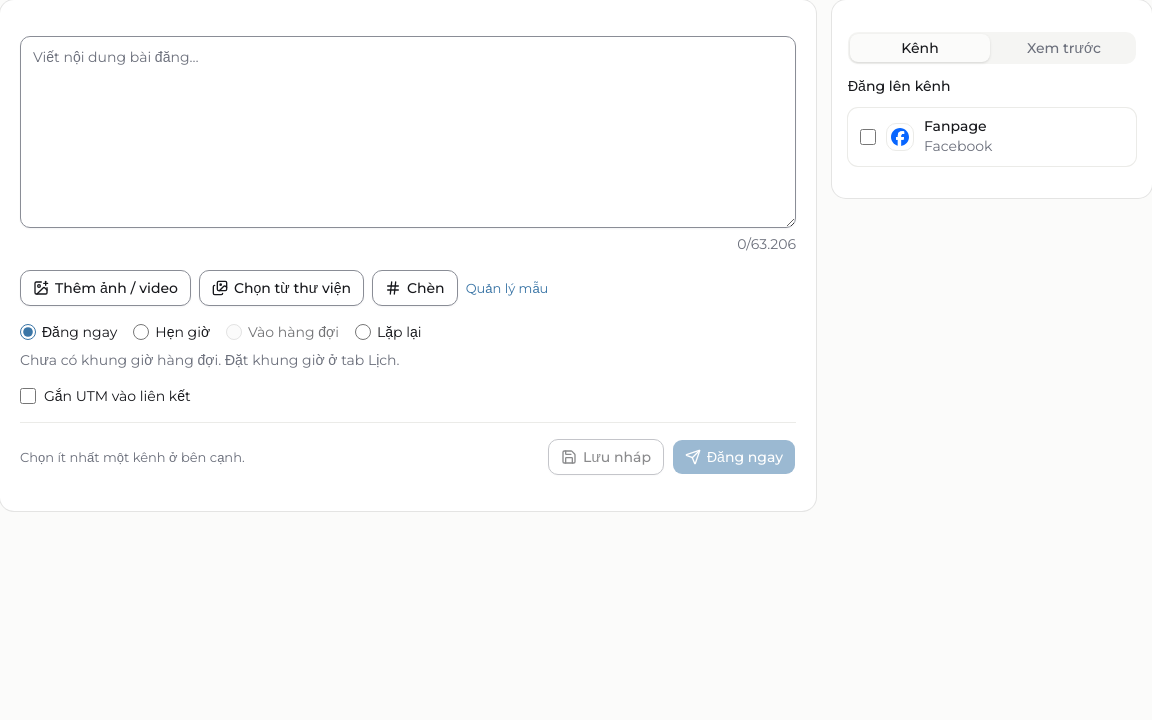
Test: ô soạn: Lặp lại › chọn Lặp lại ⇒ hiện các ô và dòng '3 lần đăng tới'
The image size is (1152, 720).
Click the radio button labelled "Lặp lại".
click(363, 332)  # box [355,324,371,340]
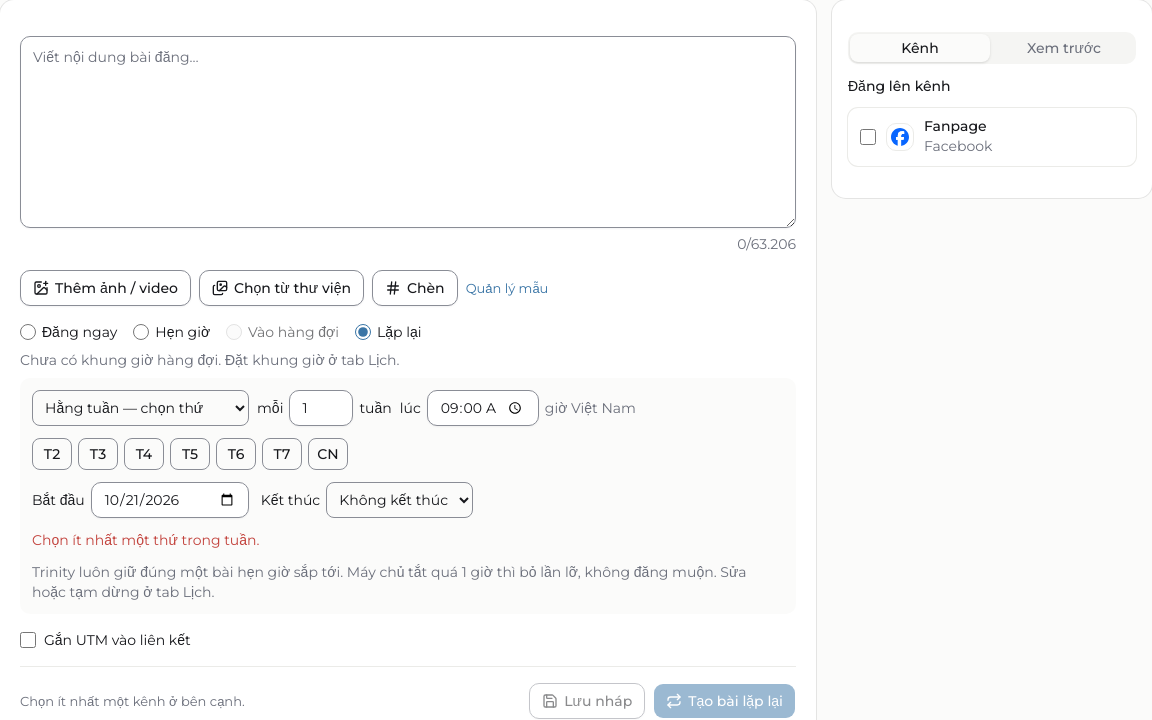
Expected: the element with test id "recurrence-fields" is shown, [20,378,796,614]
Select "Hằng ngày" in the dropdown named "Tần suất" at [140, 408], box [32,390,249,426]
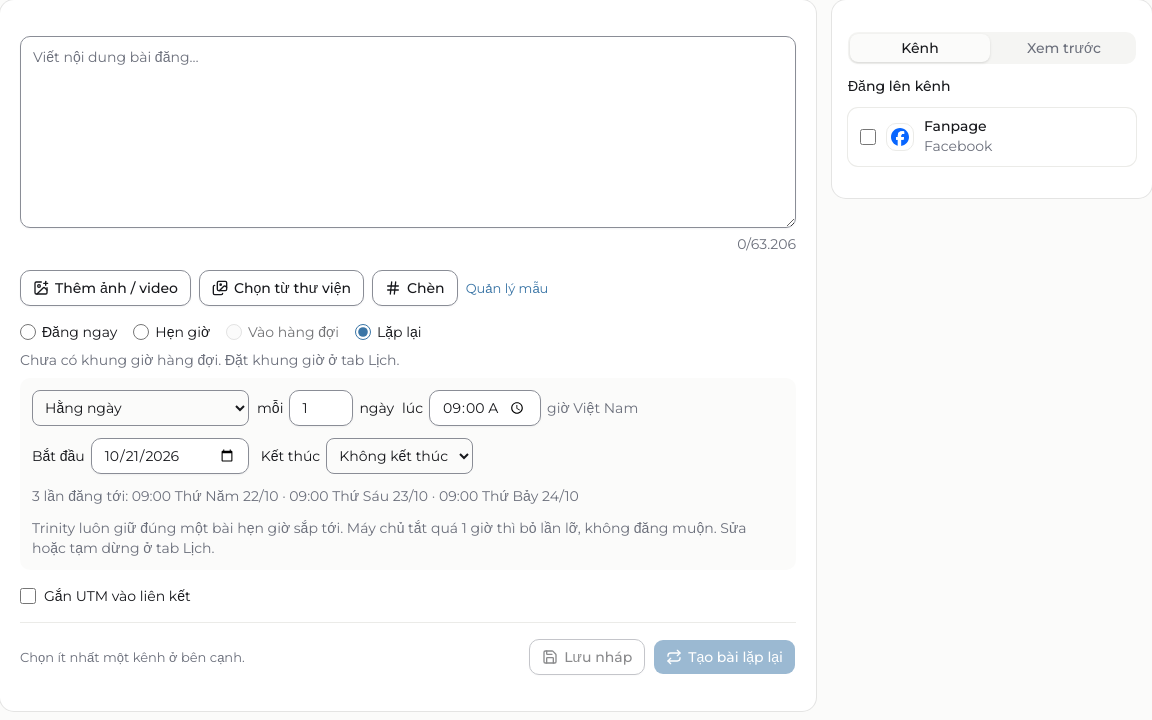
Expected: the text with test id "recurrence-next" shows "3 lần đăng tới:", [32,487,579,505]
